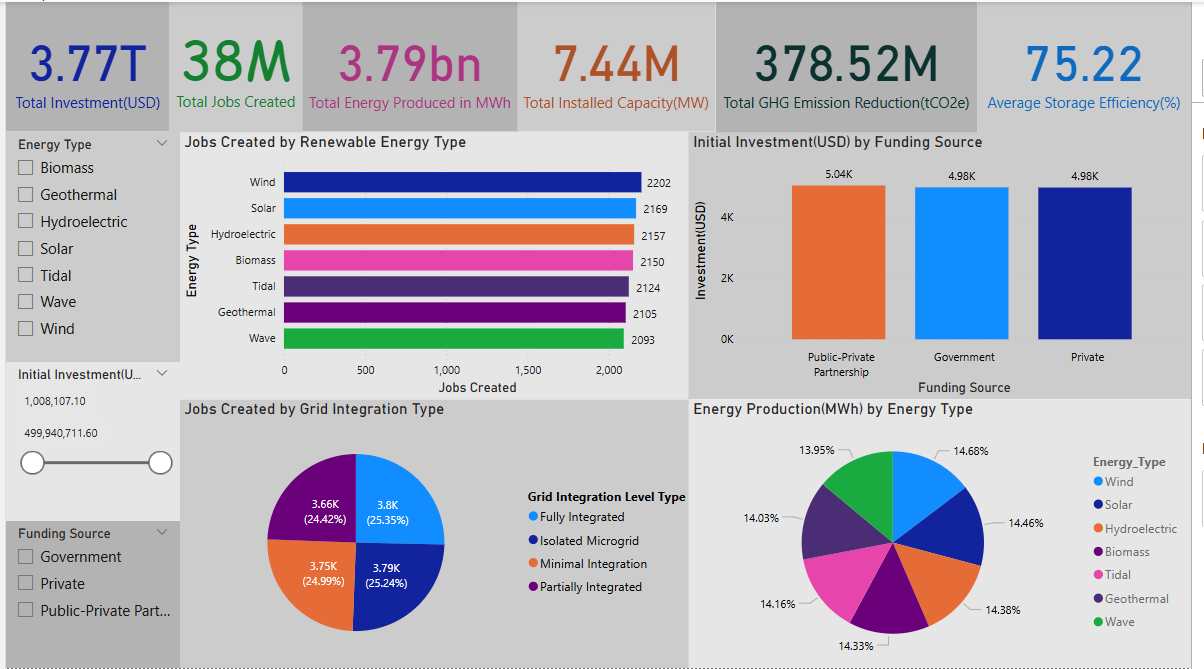

The dashboard page shown, as its layout file describes it:
{"tool":"powerbi","page":{"name":"Page 1","canvas":[1280,720],"ordinal":0},"visuals":[{"type":"barChart","title":"Jobs Created by Renewable Energy Type","fields":{"Category":["energy_dataset_.Energy_Type"],"Y":["CountNonNull(energy_dataset_.Jobs_Created)"],"Series":["energy_dataset_.Type_of_Renewable_Energy"]},"box":[187.7,140.5,551,289],"z":0},{"type":"pieChart","title":"Jobs Created by Grid Integration Type","fields":{"Y":["CountNonNull(energy_dataset_.Jobs_Created)"],"Category":["energy_dataset_.Grid_Integration_Type"]},"box":[187.7,429.5,551,290.4],"z":1000},{"type":"columnChart","title":"Initial Investment(USD) by Funding Source","fields":{"Y":["CountNonNull(energy_dataset_.Initial_Investment_USD)"],"Series":["energy_dataset_.Funding_Sources"],"Category":["energy_dataset_.Funding_Source"]},"box":[737.4,140.5,542.9,289],"z":2000},{"type":"pieChart","title":"Energy Production(MWh) by Energy Type","fields":{"Y":["CountNonNull(energy_dataset_.Energy_Production_MWh)"],"Category":["energy_dataset_.Energy_Type"]},"box":[737.4,429.5,542.9,290.4],"z":3000},{"type":"card","fields":{"Values":["Sum(energy_dataset_.Jobs_Created)"]},"box":[176.9,0,143.2,140.5],"z":4000},{"type":"card","fields":{"Values":["Sum(energy_dataset_.Energy_Production_MWh)"]},"box":[319.7,0,233.3,140],"z":5000},{"type":"card","fields":{"Values":["Sum(energy_dataset_.GHG_Emission_Reduction_tCO2e)"]},"box":[767.1,0,282.3,140.5],"z":6000},{"type":"card","fields":{"Values":["Sum(energy_dataset_.Installed_Capacity_MW)"]},"box":[553,0,214.1,140],"z":7000},{"type":"card","fields":{"Values":["Avg(energy_dataset_.Storage_Efficiency_Percentage)"]},"box":[1049.3,0,230.9,140.5],"z":8000},{"type":"card","fields":{"Values":["Sum(energy_dataset_.Initial_Investment_USD)"]},"box":[0,0,177,140],"z":9000},{"type":"slicer","fields":{"Values":["energy_dataset_.Energy_Type"]},"box":[0,140.5,187.7,248.5],"z":10000},{"type":"slicer","fields":{"Values":["energy_dataset_.Funding_Source"]},"box":[0,560.5,187.7,159.4],"z":11000},{"type":"slicer","fields":{"Values":["energy_dataset_.Initial_Investment_USD"]},"box":[0,388.9,187.7,171.5],"z":12000}]}

Visuals, with their boxes on the page's 1280x720 design canvas (x1, y1, x2, y2). These are canvas units, not pixel positions in the 1204x669 screenshot, which may show the page scaled, cropped or inside an application window:
"Jobs Created by Renewable Energy Type" barChart: locate(188, 140, 739, 430)
"Jobs Created by Grid Integration Type" pieChart: locate(188, 430, 739, 720)
"Initial Investment(USD) by Funding Source" columnChart: locate(737, 140, 1280, 430)
"Energy Production(MWh) by Energy Type" pieChart: locate(737, 430, 1280, 720)
card - Sum(energy_dataset_.Jobs_Created): locate(177, 0, 320, 140)
card - Sum(energy_dataset_.Energy_Production_MWh): locate(320, 0, 553, 140)
card - Sum(energy_dataset_.GHG_Emission_Reduction_tCO2e): locate(767, 0, 1049, 140)
card - Sum(energy_dataset_.Installed_Capacity_MW): locate(553, 0, 767, 140)
card - Avg(energy_dataset_.Storage_Efficiency_Percentage): locate(1049, 0, 1280, 140)
card - Sum(energy_dataset_.Initial_Investment_USD): locate(0, 0, 177, 140)
slicer - energy_dataset_.Energy_Type: locate(0, 140, 188, 389)
slicer - energy_dataset_.Funding_Source: locate(0, 560, 188, 720)
slicer - energy_dataset_.Initial_Investment_USD: locate(0, 389, 188, 560)
